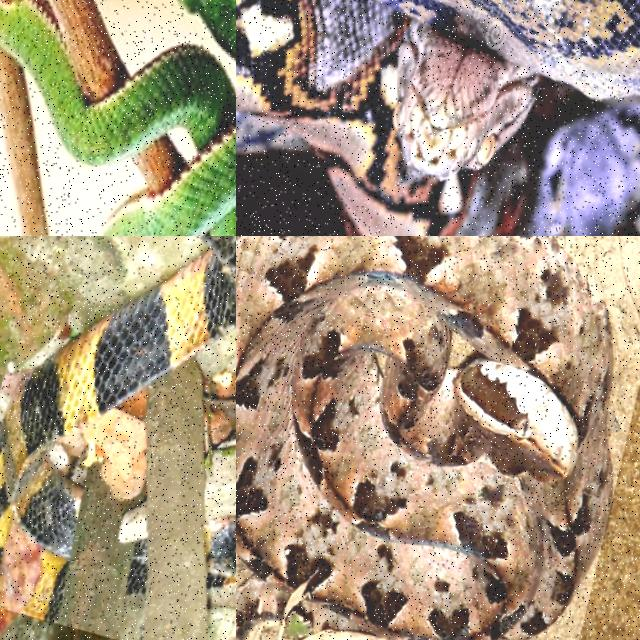Bungarus fasciatus: (0, 236, 235, 559)
Calloselasma rhodostoma: (236, 236, 612, 639)
Malayopython reticulatus: (236, 0, 639, 235)
Trimeresurus: (0, 0, 235, 235)
snake: (236, 236, 612, 639), (236, 0, 639, 235), (0, 236, 235, 559), (0, 0, 235, 235)
